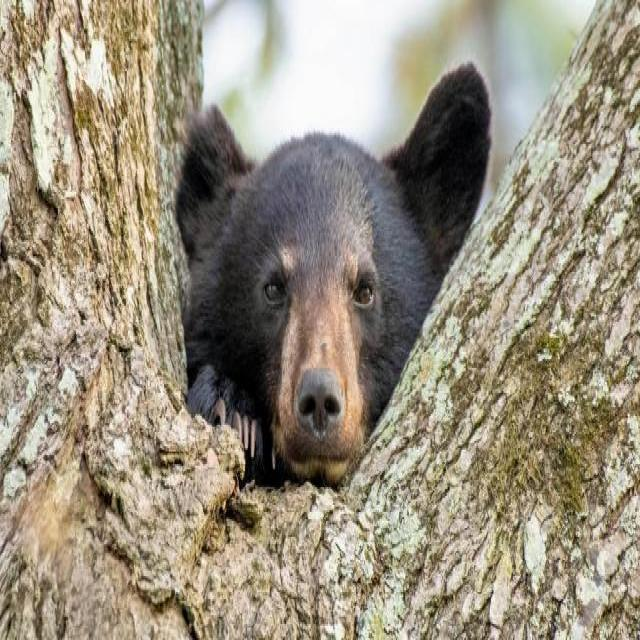Bear: (175, 62, 494, 487)
